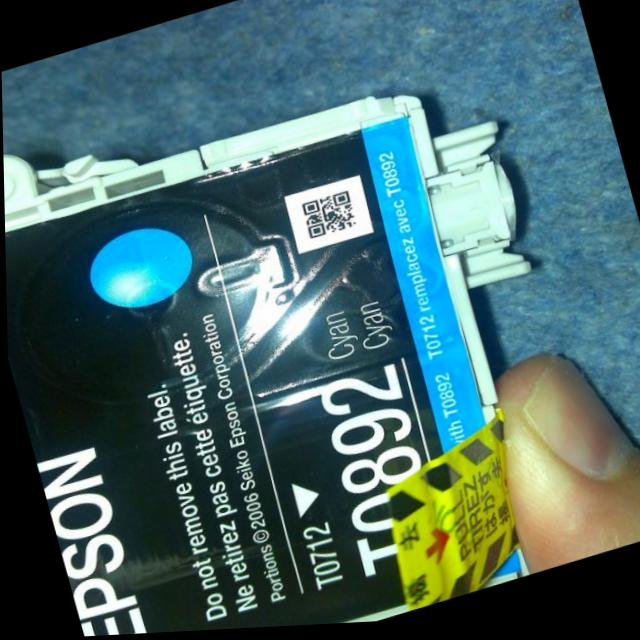qrcode: (301, 194, 355, 241)
